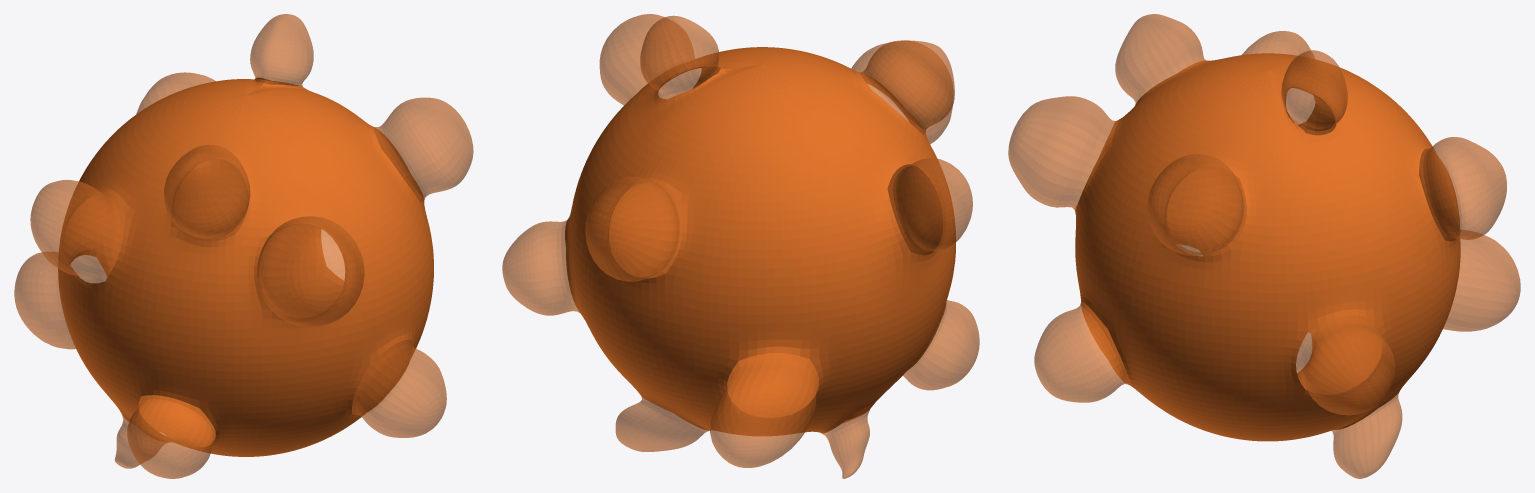
3 views of the same model, side by side, from view 1: azimuth 30°, elevation 25°; view 2: azimuth 150°, elevation 25°; view 3: azimuth 270°, elevation 25° (orthographic). The views are drawn at different scales.
Visible parts, largest first — view 1: Sphere; view 2: Sphere; view 3: Sphere.
Boxes of the visible parts, <box> form: Sphere: <box>14,14,473,478</box>; Sphere: <box>502,14,979,478</box>; Sphere: <box>1008,14,1520,478</box>.
Size of the model in its own units: 250 by 238 by 262.
